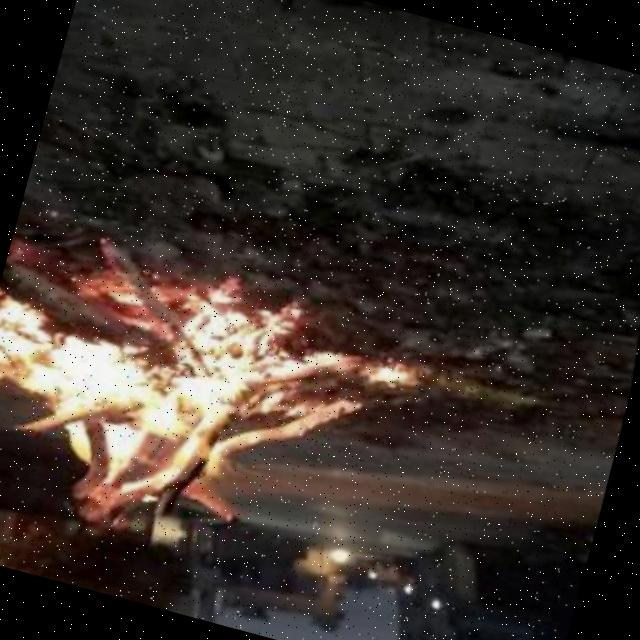fire: (0, 204, 408, 580)
